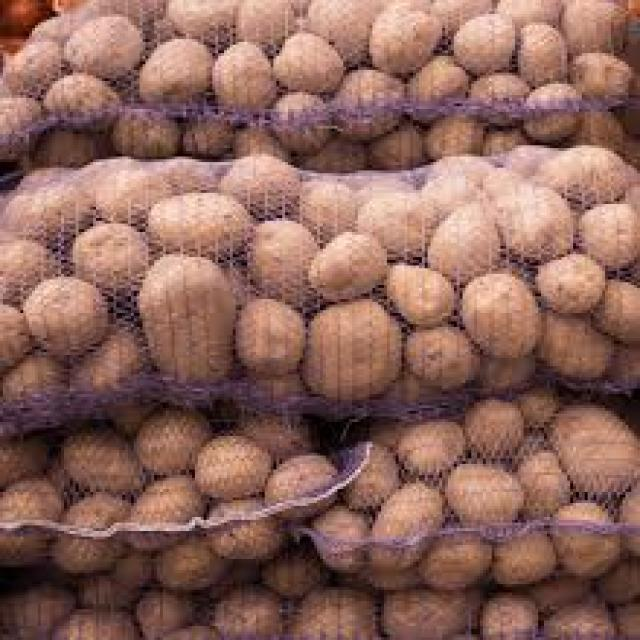Potato: (129, 246, 232, 380), (440, 260, 541, 365), (302, 292, 394, 404), (534, 407, 640, 501), (234, 211, 330, 303), (24, 273, 120, 355), (21, 66, 141, 131), (60, 419, 153, 501), (496, 173, 574, 270), (125, 462, 207, 550), (65, 210, 152, 292), (300, 226, 396, 298), (186, 429, 278, 501), (427, 200, 506, 282), (142, 192, 253, 250), (204, 158, 304, 222), (134, 39, 216, 116), (359, 8, 445, 78), (401, 327, 494, 391), (361, 478, 443, 550), (202, 38, 274, 120), (264, 23, 339, 101), (54, 497, 129, 573), (136, 402, 204, 482), (58, 18, 145, 79), (235, 293, 302, 368), (448, 15, 524, 80), (289, 172, 359, 242), (360, 196, 432, 262), (447, 465, 530, 522), (387, 264, 455, 328), (394, 418, 470, 474), (332, 440, 389, 513), (268, 458, 339, 516), (84, 170, 159, 222), (471, 403, 524, 467)
